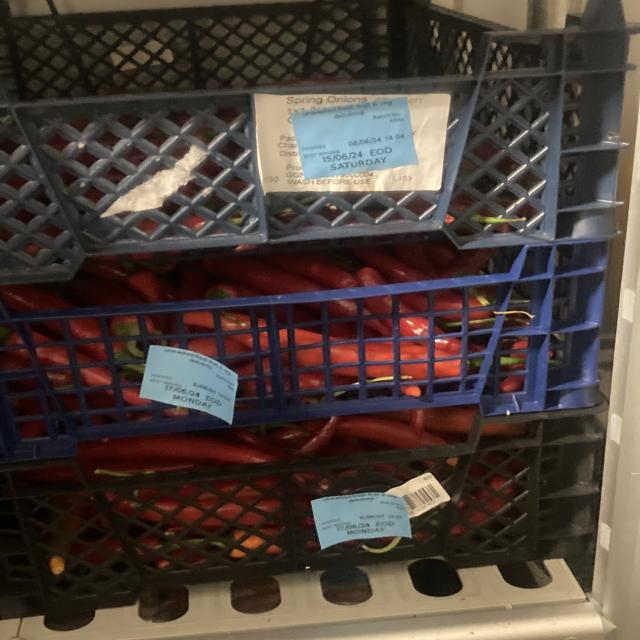product-labels: (291, 96, 420, 181), (133, 337, 250, 430), (311, 488, 413, 550)
